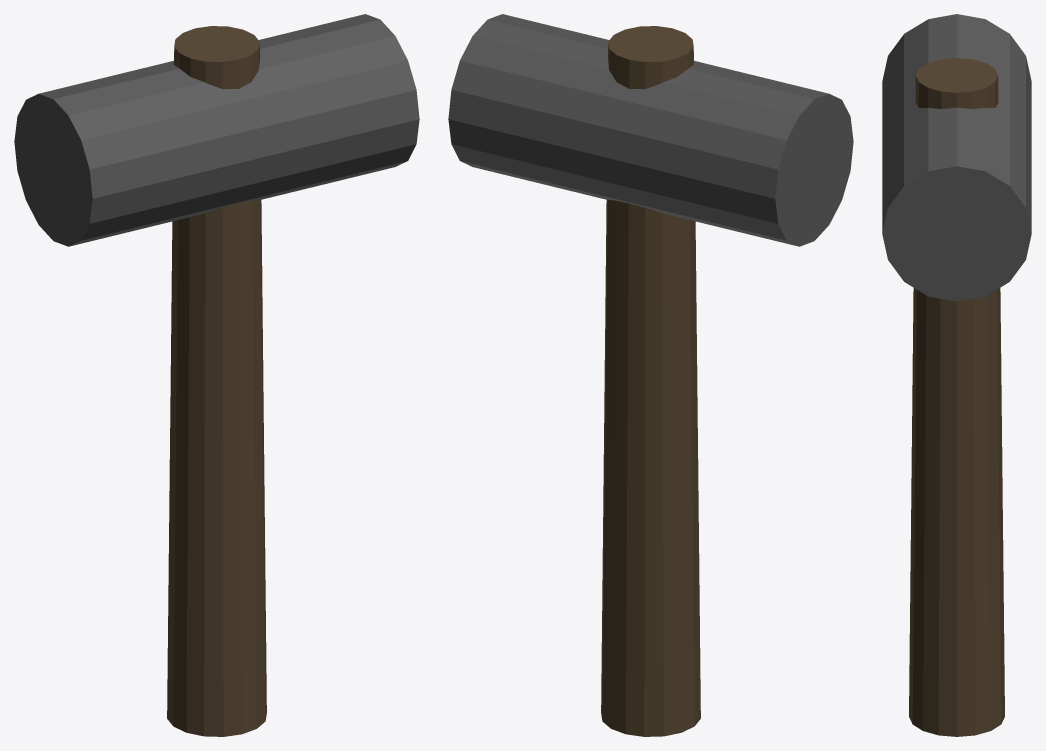
File: blacksmithhammer.fbx
The picture shows the model from 3 angles, left to right: view 1: azimuth 30°, elevation 25°; view 2: azimuth 150°, elevation 25°; view 3: azimuth 270°, elevation 25°; orthographic projection. The views are drawn at different scales.
Visible parts, largest first — view 1: Cylinder; view 2: Cylinder; view 3: Cylinder.
Part boxes in pixels (x1=…): Cylinder: x1=14, y1=14, x2=419, y2=736; Cylinder: x1=448, y1=14, x2=853, y2=736; Cylinder: x1=882, y1=14, x2=1031, y2=736.
Size of the model in its own units: 750 by 1472 by 311.
